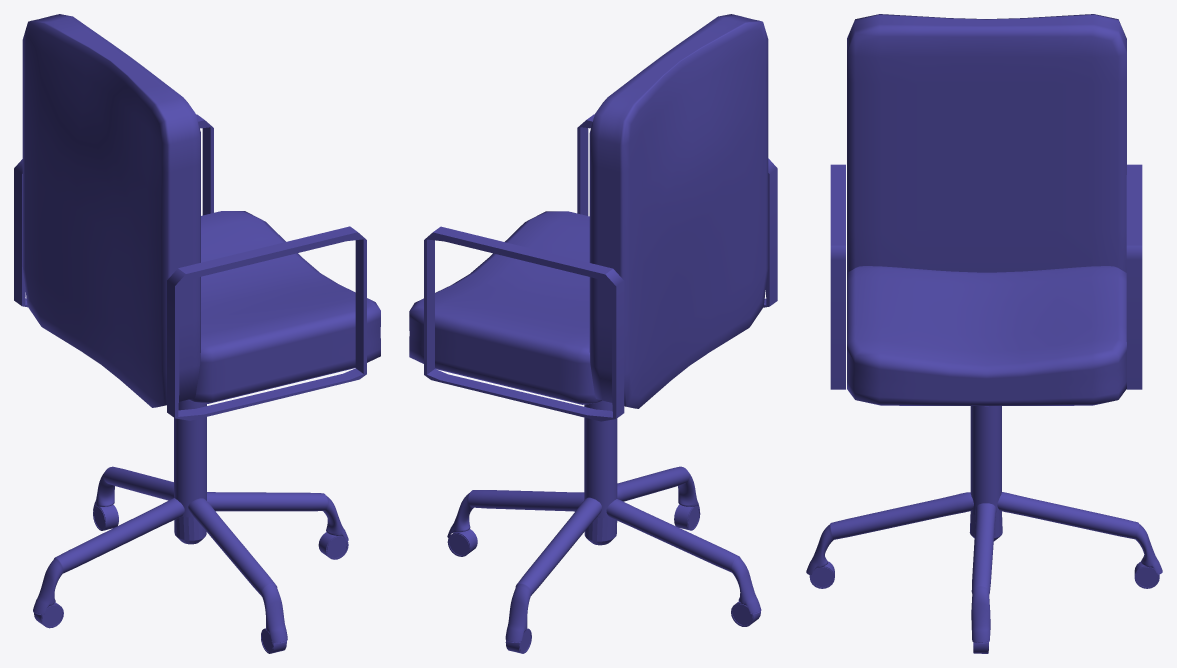
File: SetoOfficeChair.fbx
3 views of the same model, side by side, from view 1: azimuth 30°, elevation 25°; view 2: azimuth 150°, elevation 25°; view 3: azimuth 270°, elevation 25° (orthographic). The views are drawn at different scales.
Visible parts, largest first — view 1: OfficeChair; view 2: OfficeChair; view 3: OfficeChair.
Part boxes in pixels (x1,y1,x2,y2): OfficeChair: [14, 14, 380, 653]; OfficeChair: [409, 14, 777, 653]; OfficeChair: [806, 14, 1162, 653].
Size of the model in its own units: 83.93 by 141 by 85.96.
